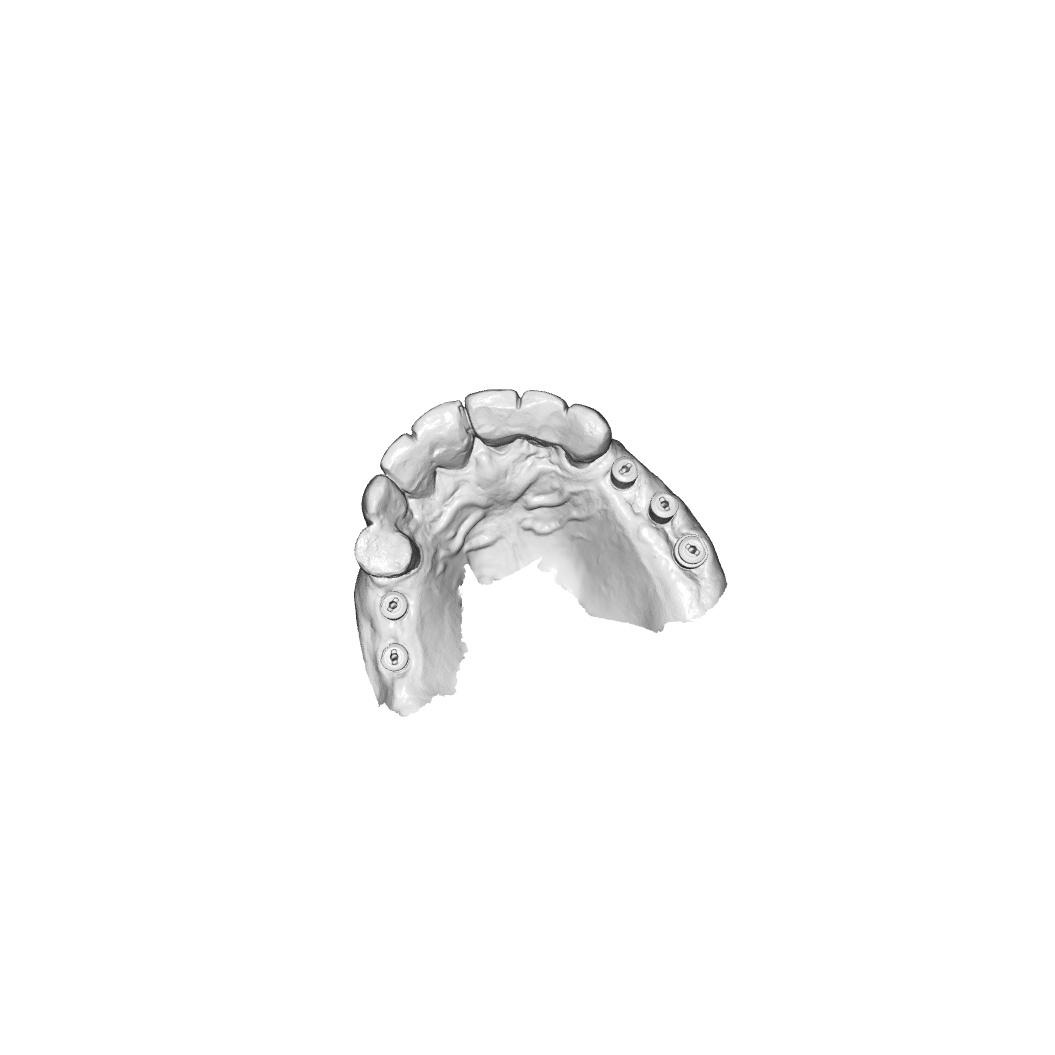canine: (564, 402, 613, 465), (360, 473, 411, 525)
implant_minus: (672, 533, 709, 571), (647, 491, 680, 525), (609, 455, 640, 489), (379, 589, 410, 622), (380, 642, 411, 673)
incisor: (410, 399, 473, 471), (378, 432, 435, 497), (463, 387, 520, 449), (517, 389, 568, 447)
premolar: (353, 526, 423, 579)
